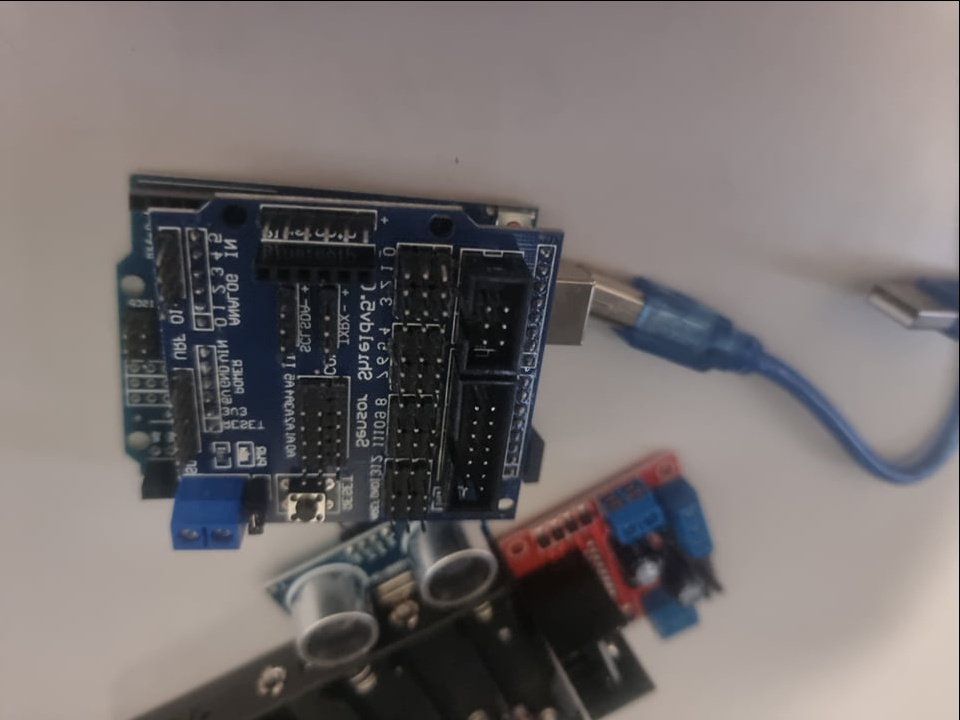5V EXPANSION: (169, 227, 547, 550)
MOTOR: (511, 457, 717, 717)
SENSOR: (277, 512, 489, 661)
